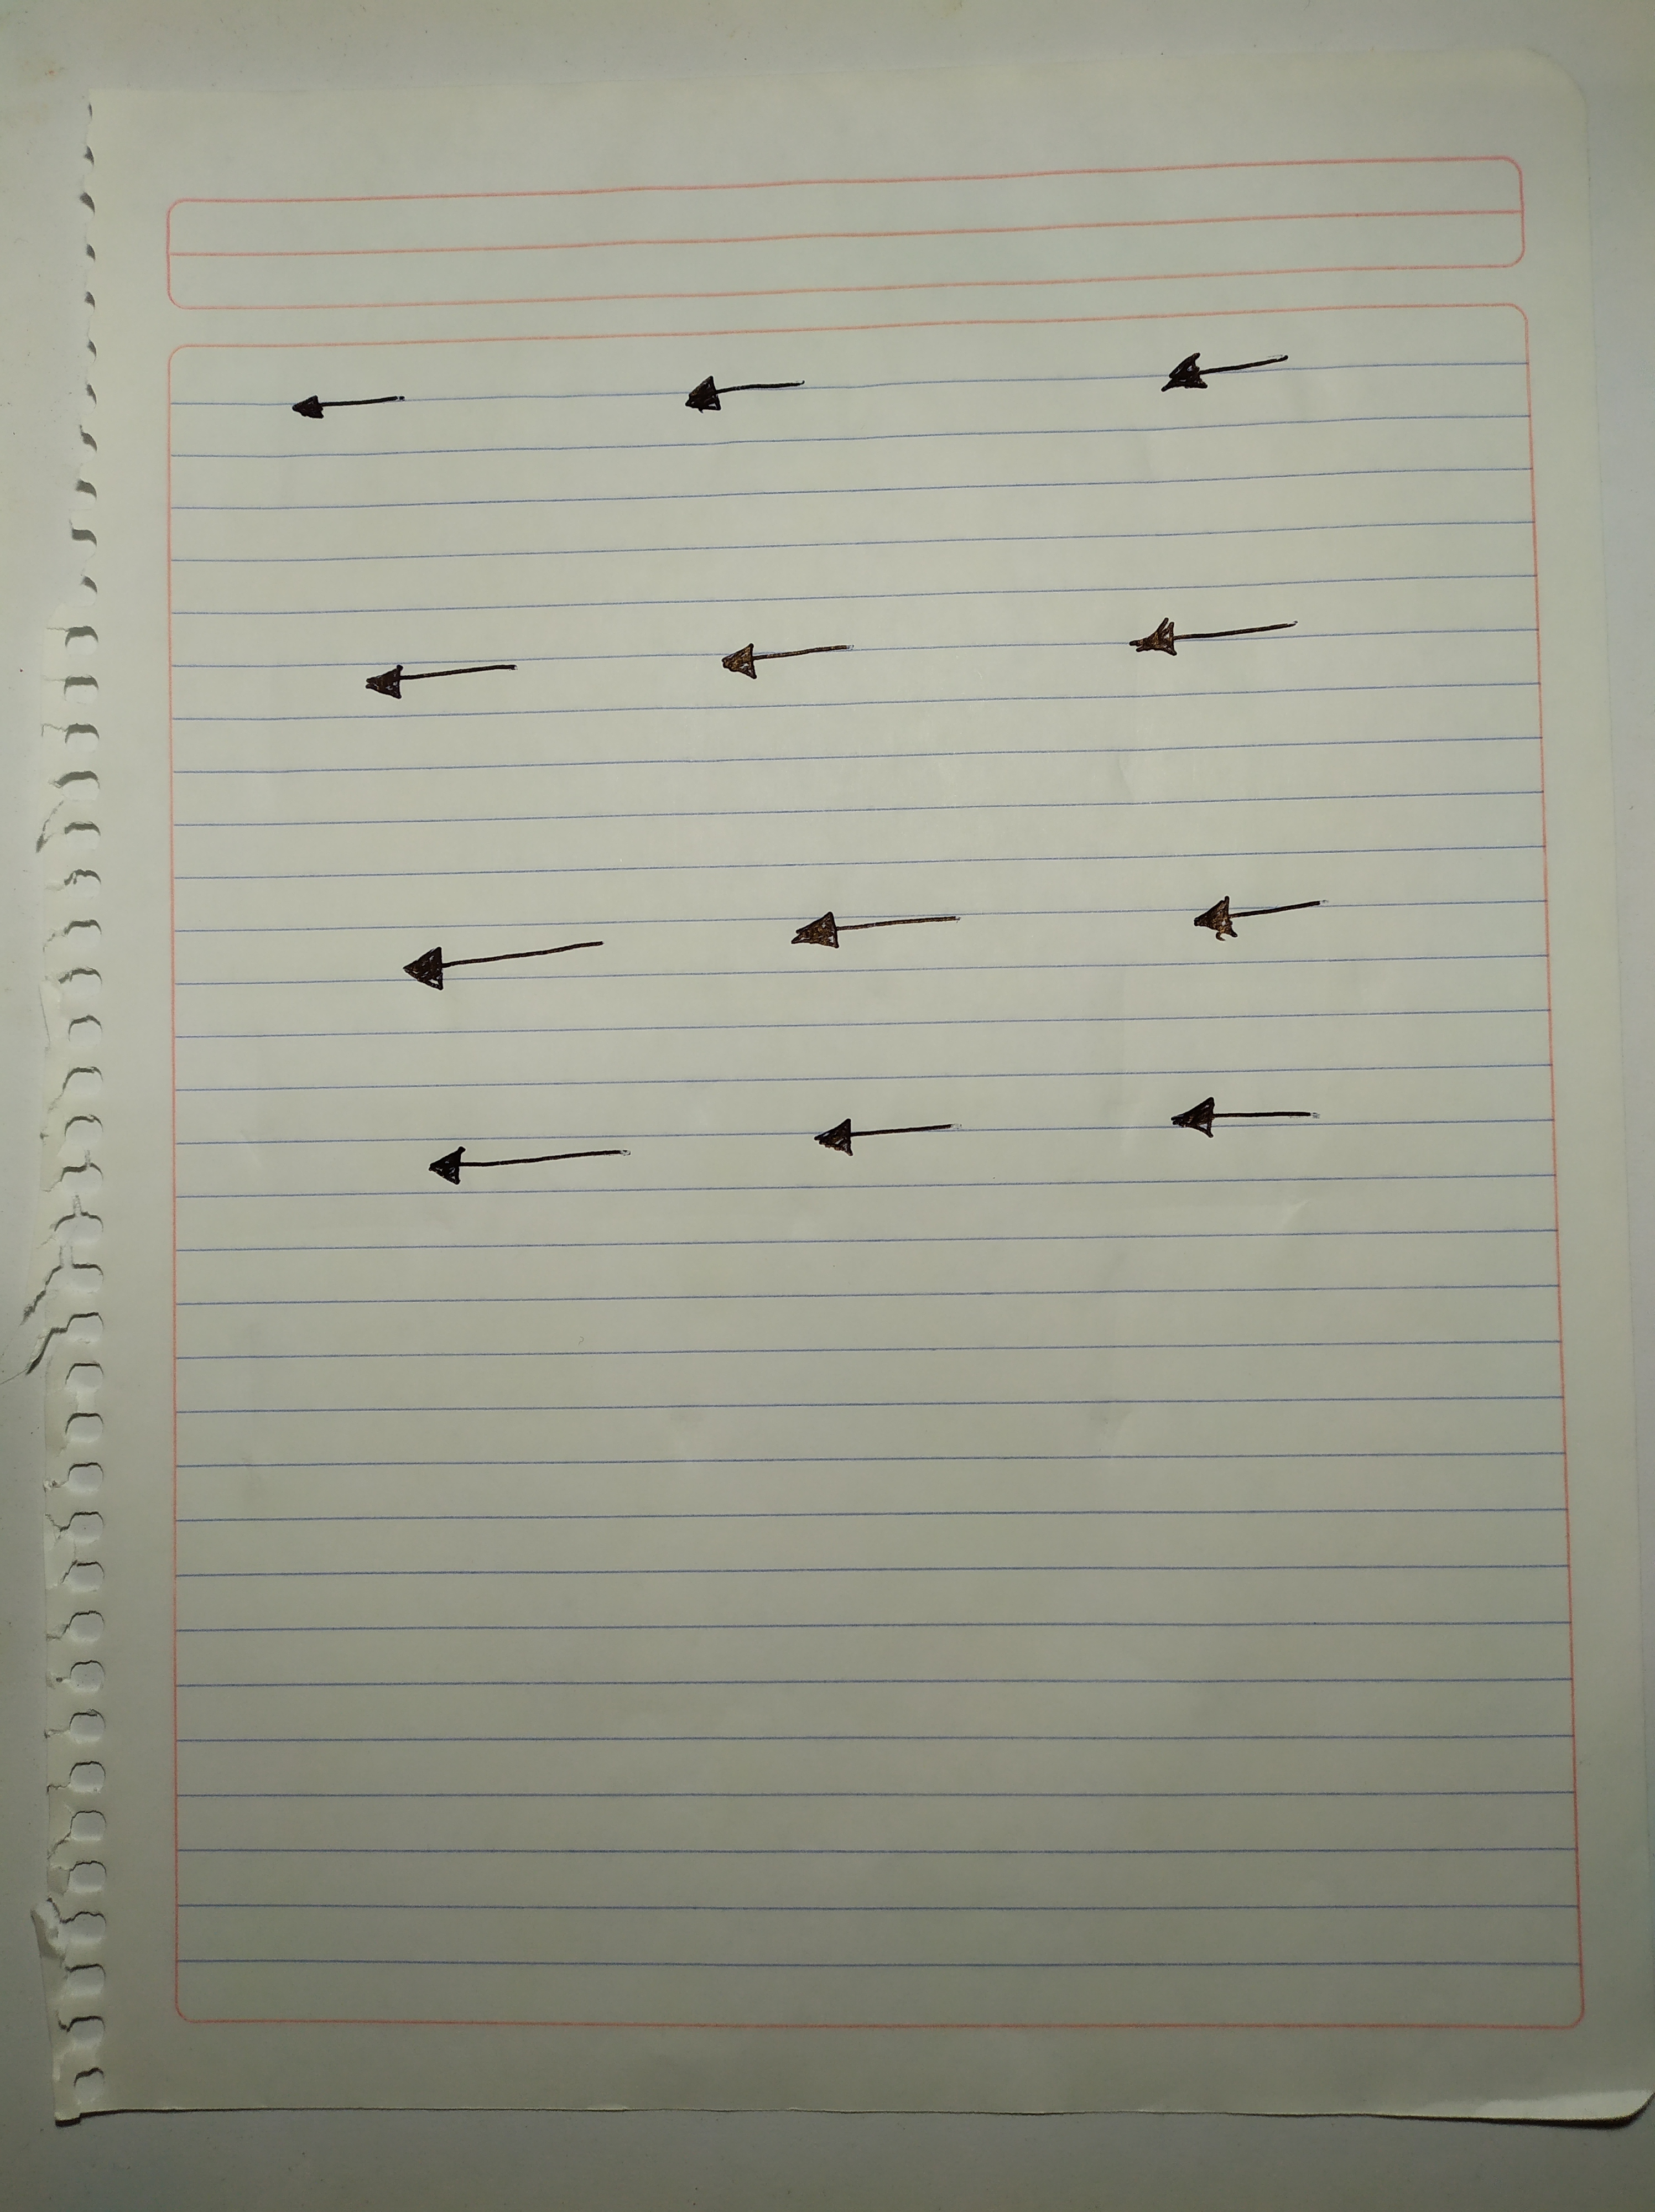arrow_line_left: (376, 914, 635, 1010), (226, 367, 487, 457), (1085, 599, 1337, 686), (748, 893, 1000, 977), (306, 636, 567, 712), (384, 1123, 675, 1189), (772, 1096, 996, 1180), (1160, 883, 1379, 968), (1120, 328, 1351, 408), (1137, 1083, 1353, 1159), (652, 353, 866, 426), (692, 631, 892, 695)
